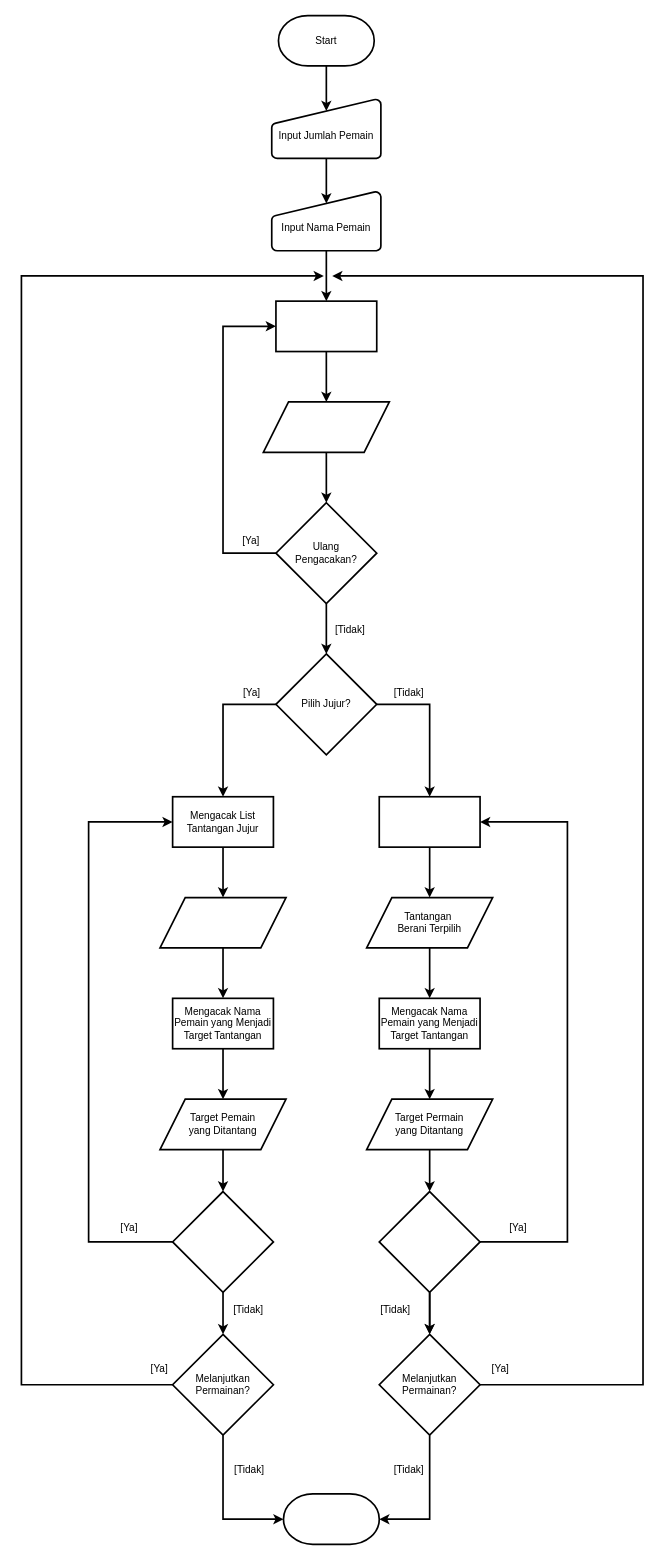
Image size: 664x1559. Some labels were removed from this diagram. Each missing label, with the centre of its shape:
Mengacak List Tantangan Berani: the point at 429,821
Mengacak Nama Pemain: the point at 326,326
Mengulang Tantangan Berani?: the point at 429,1241
Mengulang Tantangan Jujur?: the point at 222,1241
Nama Pemain yang Ditantang: the point at 326,427
Selesai: the point at 331,1519
Tantangan Jujur Terpilih: the point at 222,922
